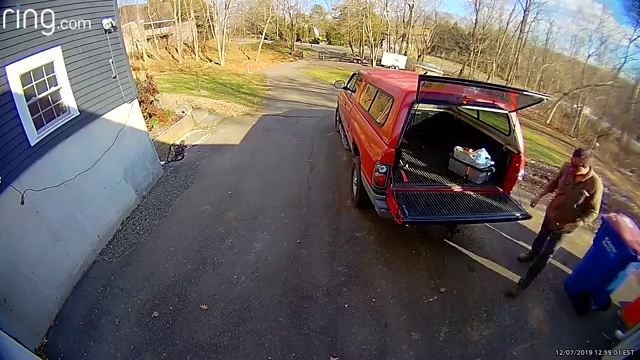face: (569, 157, 589, 174)
